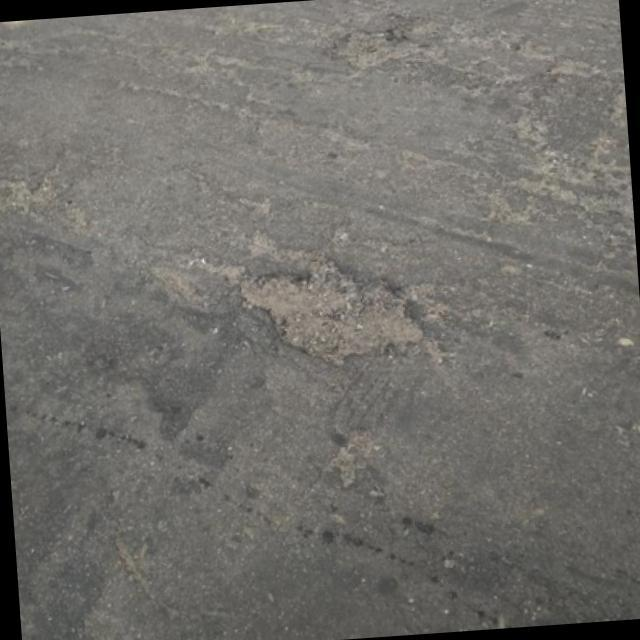Pothole: (241, 257, 422, 363)
